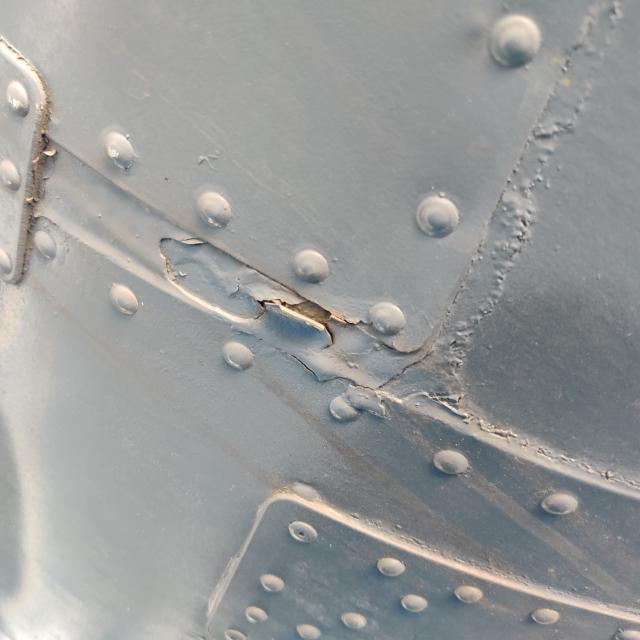Crack: (234, 279, 345, 352)
